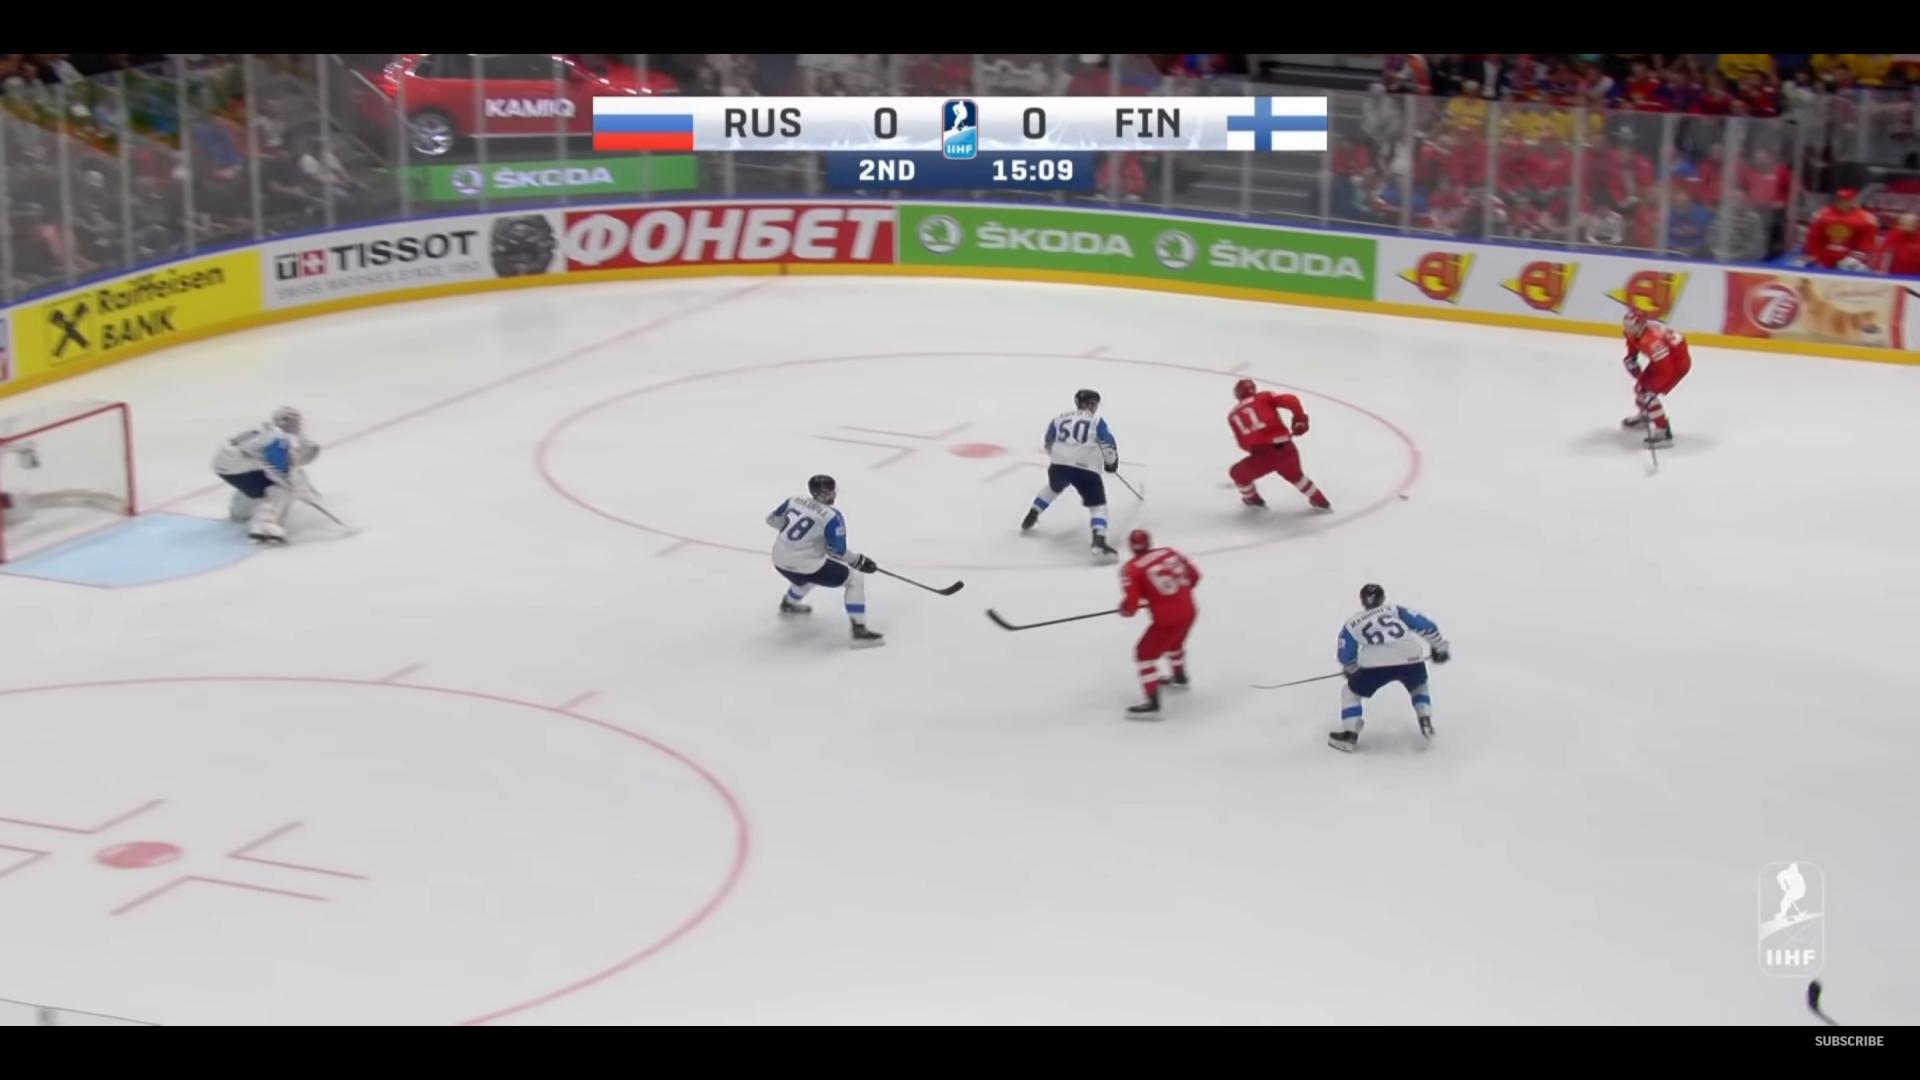puck: (1398, 493, 1407, 498)
